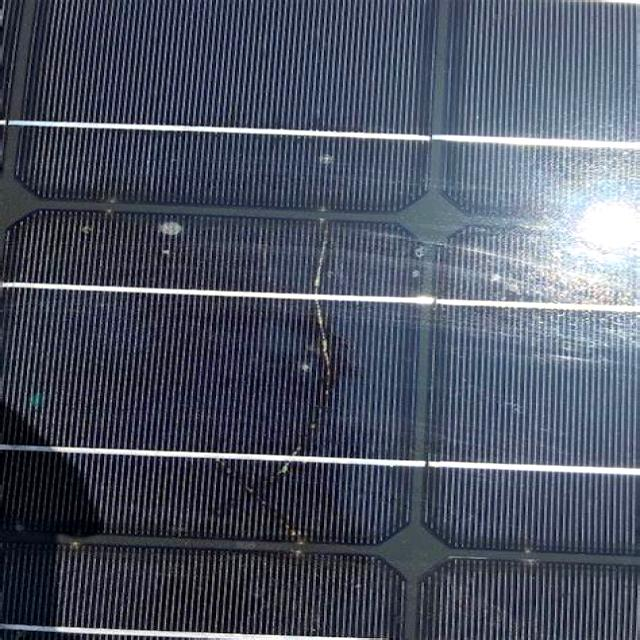shadow: (270, 197, 360, 493)
